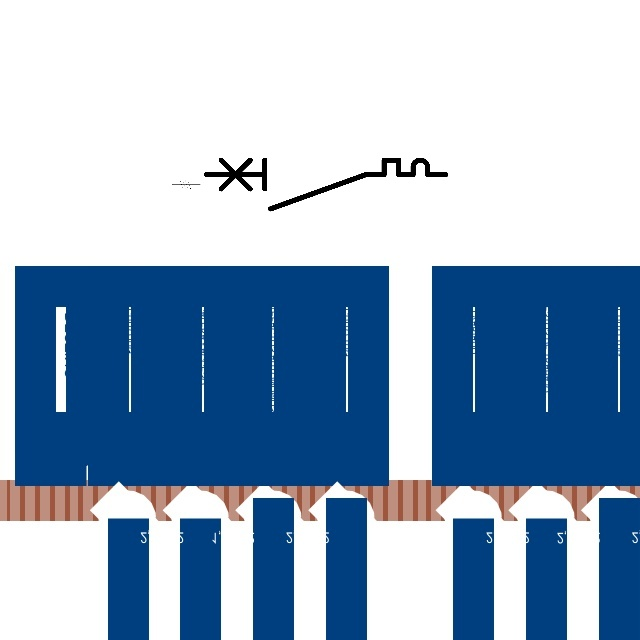interruptor_termomagnetico: (200, 154, 452, 215)
